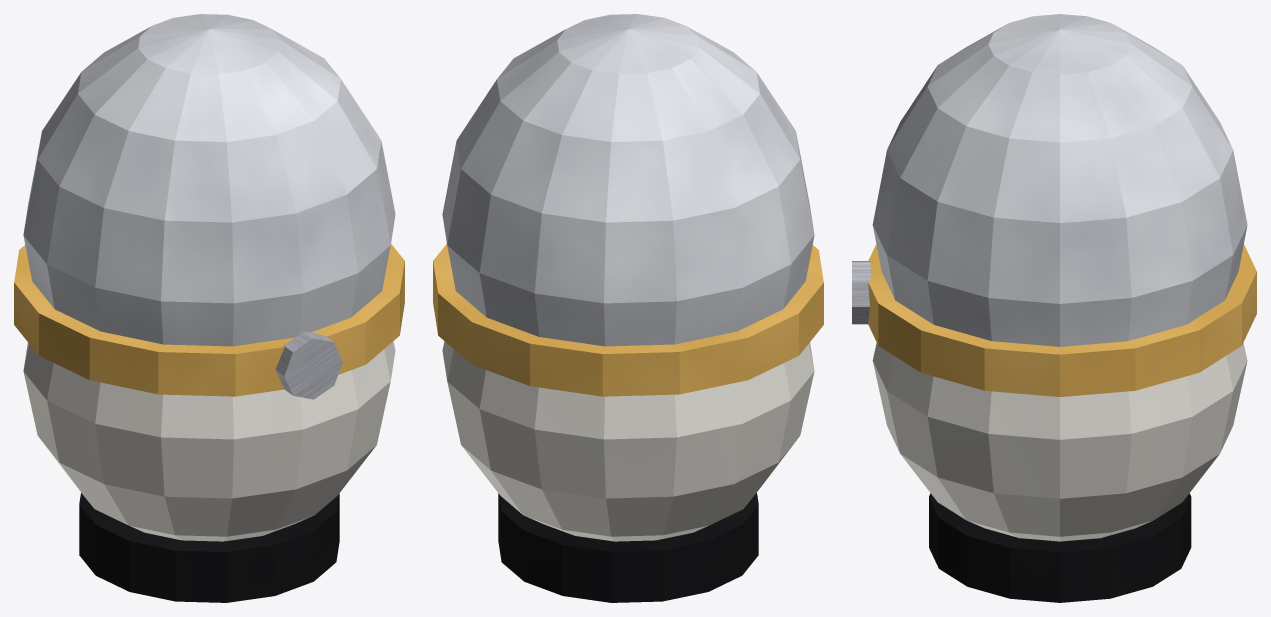
File: mdl_capsula_plata.fbx
3 renders of one model, left to right at view 1: azimuth 30°, elevation 25°; view 2: azimuth 150°, elevation 25°; view 3: azimuth 270°, elevation 25°, orthographic.
Parts seen in each view (by area): view 1: metal_plata, esmalte_blanco, metal_oro_pulido, esmalte_negro, metal_acero; view 2: metal_plata, esmalte_blanco, metal_oro_pulido, esmalte_negro; view 3: metal_plata, esmalte_blanco, metal_oro_pulido, esmalte_negro, metal_acero.
Part boxes in pixels (<box>): metal_plata: <box>23,14,395,346</box>; esmalte_blanco: <box>23,341,395,541</box>; metal_oro_pulido: <box>14,244,404,396</box>; esmalte_negro: <box>79,492,339,602</box>; metal_acero: <box>275,331,342,399</box>; metal_plata: <box>442,14,814,346</box>; esmalte_blanco: <box>442,341,814,541</box>; metal_oro_pulido: <box>433,244,823,396</box>; esmalte_negro: <box>498,492,758,602</box>; metal_plata: <box>872,14,1247,346</box>; esmalte_blanco: <box>872,343,1247,541</box>; metal_oro_pulido: <box>868,244,1256,396</box>; esmalte_negro: <box>929,493,1191,602</box>; metal_acero: <box>852,261,870,324</box>.
Size of the model in its own units: 210 by 305 by 216.
